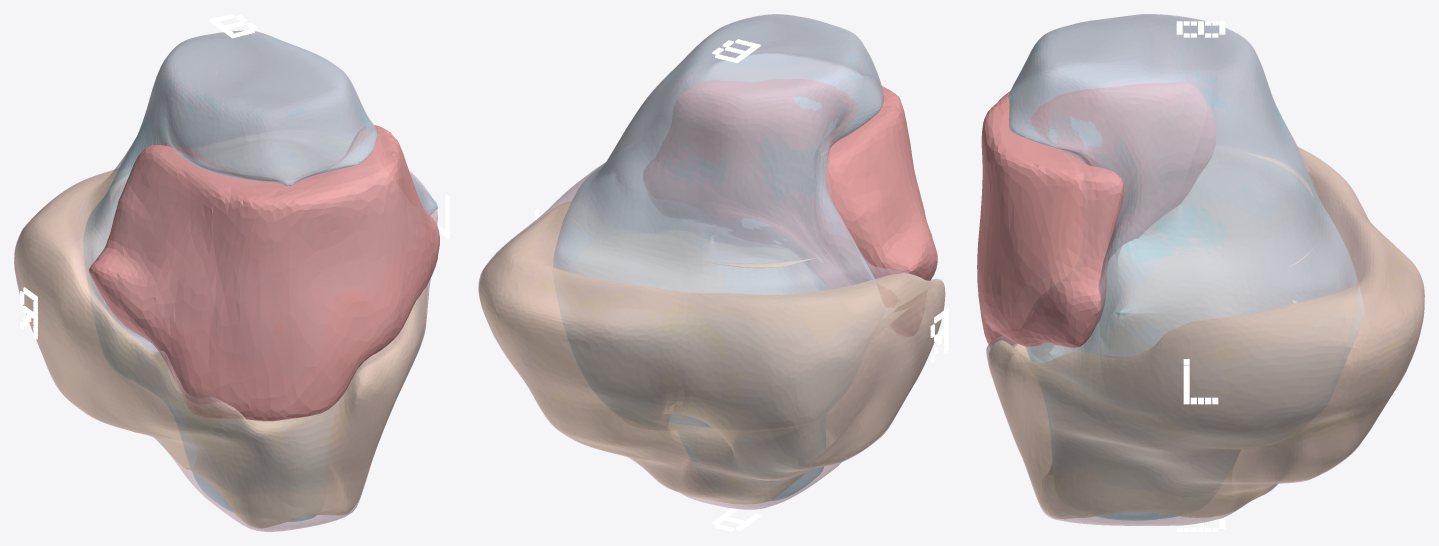
3 renders of one model, left to right at view 1: azimuth 30°, elevation 25°; view 2: azimuth 150°, elevation 25°; view 3: azimuth 270°, elevation 25°, orthographic. The views are drawn at different scales.
Visible parts, largest first — view 1: prostate_gland, lesion_01, peripheral_zone, transition_zone, pv_ar_marker_B, pv_ar_marker_R; view 2: prostate_gland, peripheral_zone, transition_zone, lesion_01, pv_ar_marker_B; view 3: prostate_gland, peripheral_zone, transition_zone, lesion_01, pv_ar_marker_B, pv_ar_marker_L.
Part boxes in pixels (x1,y1,x2,y2): prostate_gland: (14,30,437,531); lesion_01: (88,125,439,421); peripheral_zone: (14,171,427,528); transition_zone: (83,31,437,521); pv_ar_marker_B: (209,14,257,38); pv_ar_marker_R: (20,287,37,339); prostate_gland: (478,14,944,509); peripheral_zone: (479,202,945,504); transition_zone: (553,15,882,501); lesion_01: (643,79,937,336); pv_ar_marker_B: (712,39,760,63); prostate_gland: (986,14,1424,525); peripheral_zone: (988,147,1424,518); transition_zone: (1008,14,1363,520); lesion_01: (977,82,1215,348); pv_ar_marker_B: (1176,21,1225,37); pv_ar_marker_L: (1183,359,1218,404).
Size of the model in its own units: 0.057 by 0.0626 by 0.0512.
